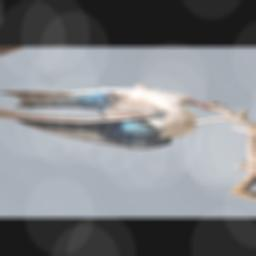Swallow: (0, 66, 251, 166)
